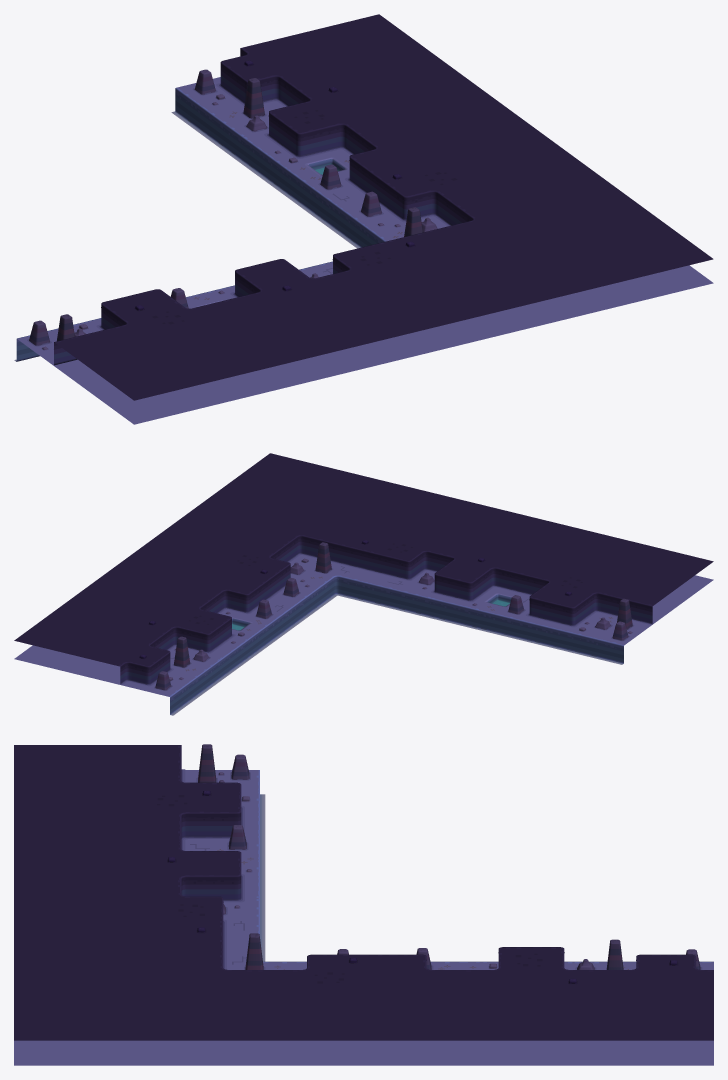
Rendered from C_cave1_out_LU.fbx.
3 views of the same model, one above another, from view 1: azimuth 30°, elevation 25°; view 2: azimuth 150°, elevation 25°; view 3: azimuth 270°, elevation 25° (orthographic). The views are drawn at different scales.
Parts seen in each view (by area): view 1: C_cave1_out_LU; view 2: C_cave1_out_LU; view 3: C_cave1_out_LU.
Boxes of the visible parts, <box> form: C_cave1_out_LU: <box>14,14,713,424</box>; C_cave1_out_LU: <box>14,453,713,715</box>; C_cave1_out_LU: <box>14,744,713,1065</box>.
Size of the model in its own units: 117 by 11.26 by 117.
